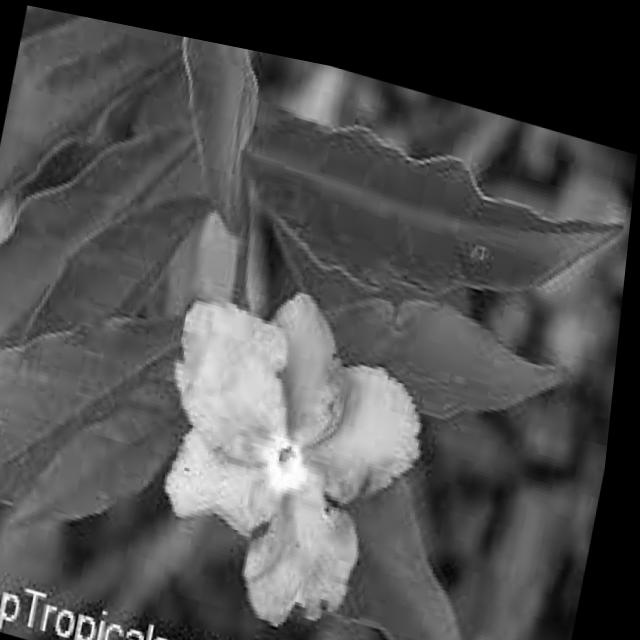Flower: (131, 250, 433, 638)
